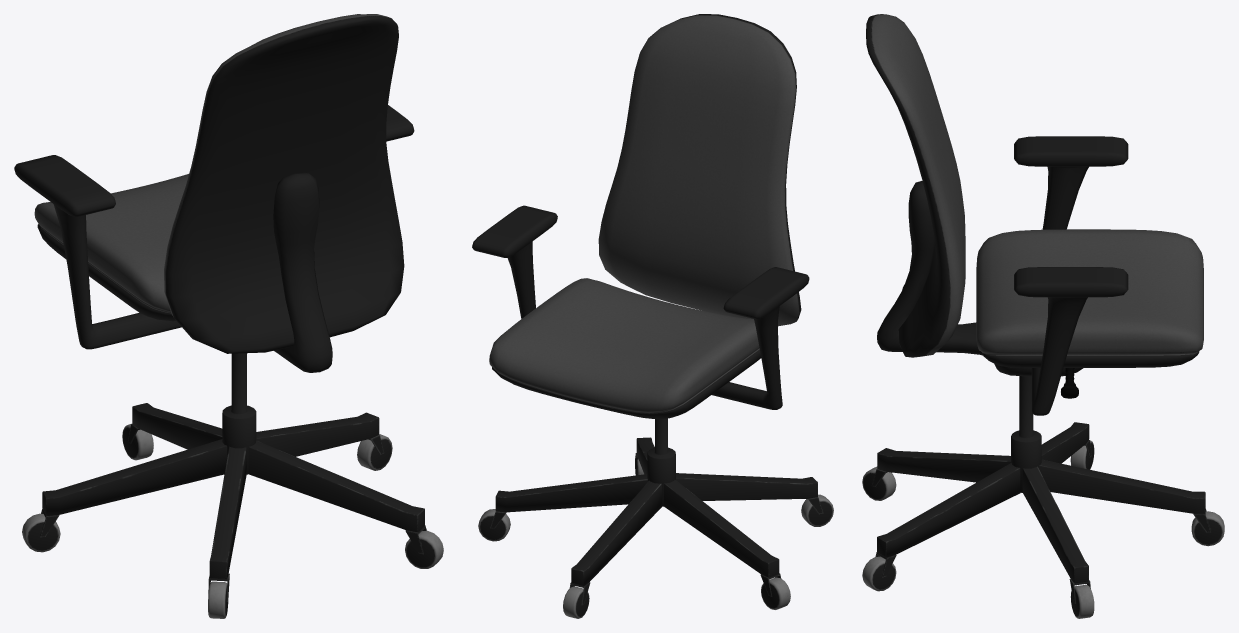
Rendered from Chair31.fbx.
3 views of the same model, side by side, from view 1: azimuth 30°, elevation 25°; view 2: azimuth 150°, elevation 25°; view 3: azimuth 270°, elevation 25° (orthographic). The views are drawn at different scales.
Parts seen in each view (by area): view 1: Chair31; view 2: Chair31; view 3: Chair31.
Part boxes in pixels (bbox=[...]): Chair31: bbox=[14, 14, 443, 618]; Chair31: bbox=[472, 14, 833, 618]; Chair31: bbox=[862, 14, 1224, 618].
Size of the model in its own units: 70.82 by 105 by 67.43.
